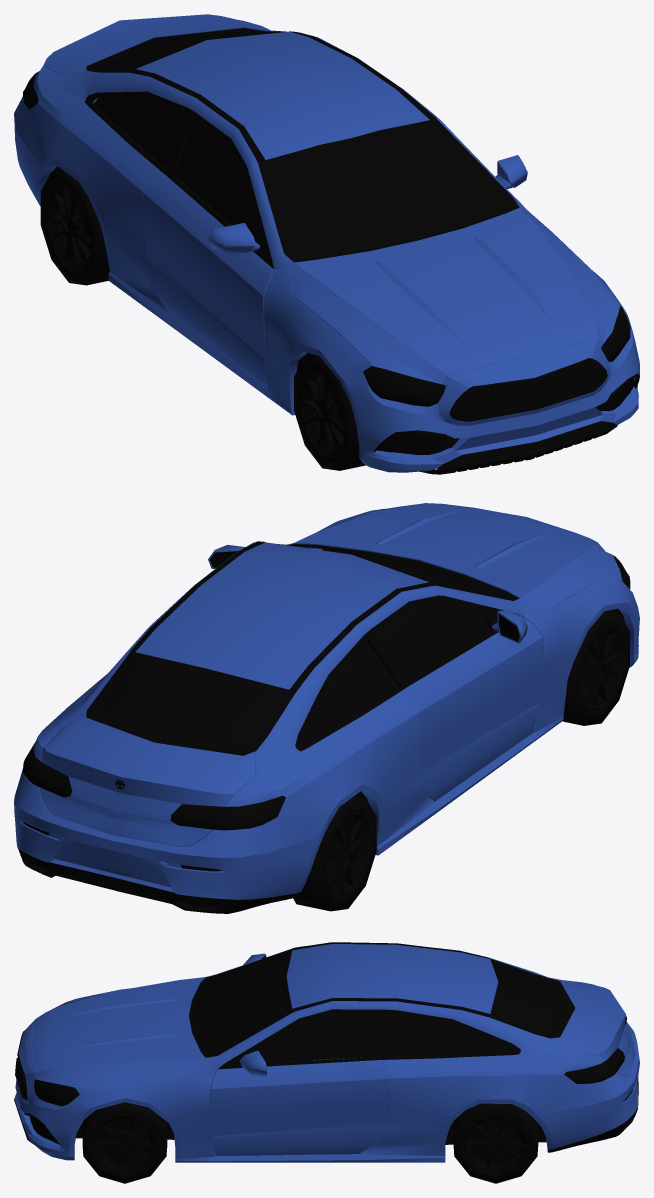
File: EclassLodHukuk.fbx
3 renders of one model, top to bottom at view 1: azimuth 30°, elevation 25°; view 2: azimuth 150°, elevation 25°; view 3: azimuth 270°, elevation 25°, orthographic. The views are drawn at different scales.
Parts seen in each view (by area): view 1: polySurface2, arkateker2, onteker2; view 2: polySurface2, arkateker2, onteker2; view 3: polySurface2, arkateker1, onteker1.
Part boxes in pixels (x1,y1,x2,y2): polySurface2: (14, 14, 639, 474); arkateker2: (40, 169, 109, 285); onteker2: (294, 355, 365, 470); polySurface2: (14, 503, 639, 913); arkateker2: (293, 795, 376, 911); onteker2: (562, 610, 629, 725); polySurface2: (14, 942, 639, 1162); arkateker1: (453, 1103, 538, 1183); onteker1: (82, 1102, 167, 1183).
Bounding box in the file's own units: 165 × 115 × 389.
